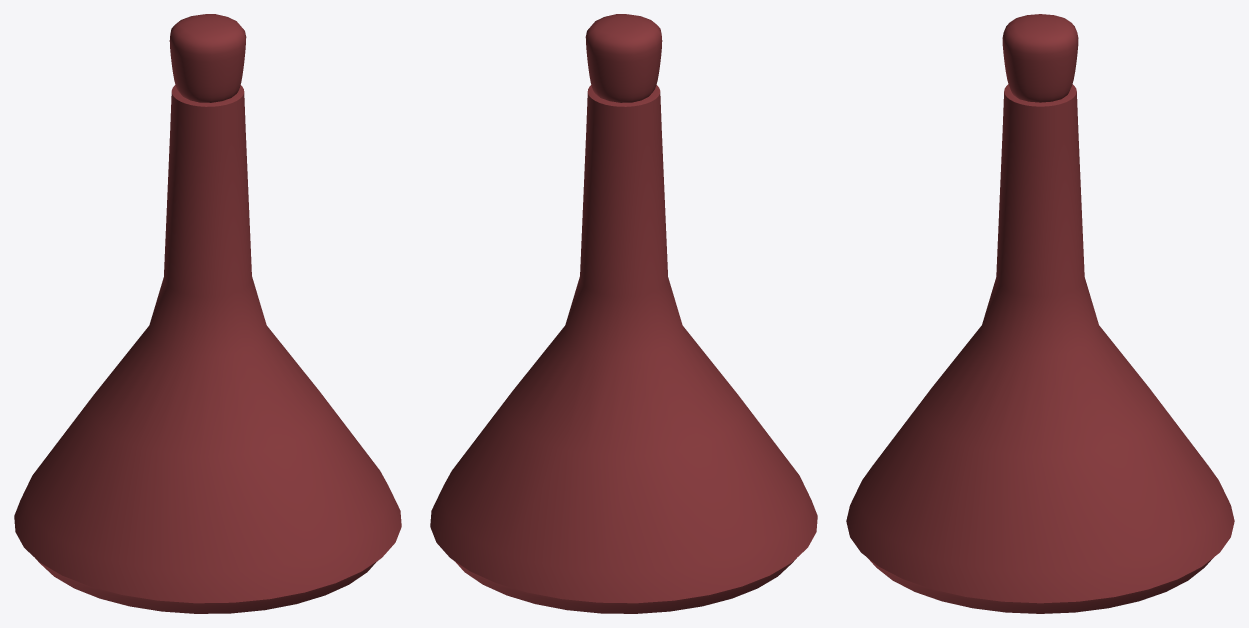
File: Red bottle.fbx
3 views of the same model, side by side, from view 1: azimuth 30°, elevation 25°; view 2: azimuth 150°, elevation 25°; view 3: azimuth 270°, elevation 25° (orthographic).
Visible parts, largest first — view 1: Cylinder, Cube.012; view 2: Cylinder, Cube.012; view 3: Cylinder, Cube.012.
Part boxes in pixels (x1,y1,x2,y2): Cylinder: [14, 85, 401, 613]; Cube.012: [169, 14, 246, 102]; Cylinder: [430, 85, 817, 613]; Cube.012: [585, 14, 662, 102]; Cylinder: [846, 84, 1234, 613]; Cube.012: [1002, 14, 1078, 102].
Size of the model in its own units: 97.7 by 144 by 97.7.
